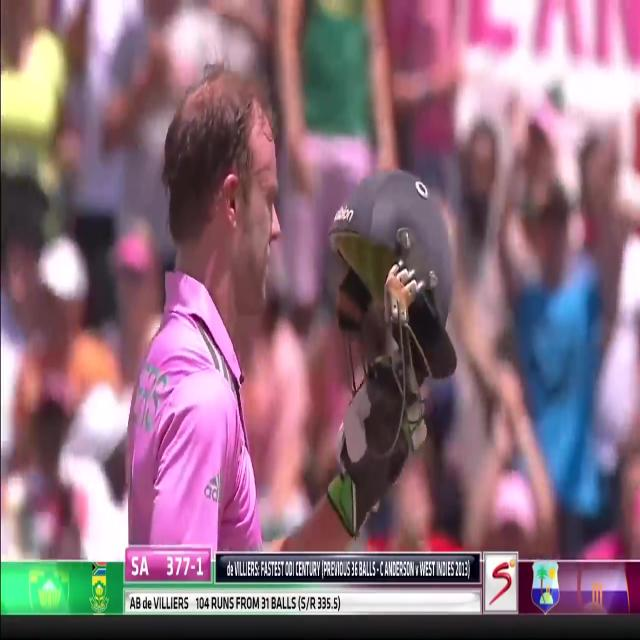Ball: (111, 37, 279, 551)
